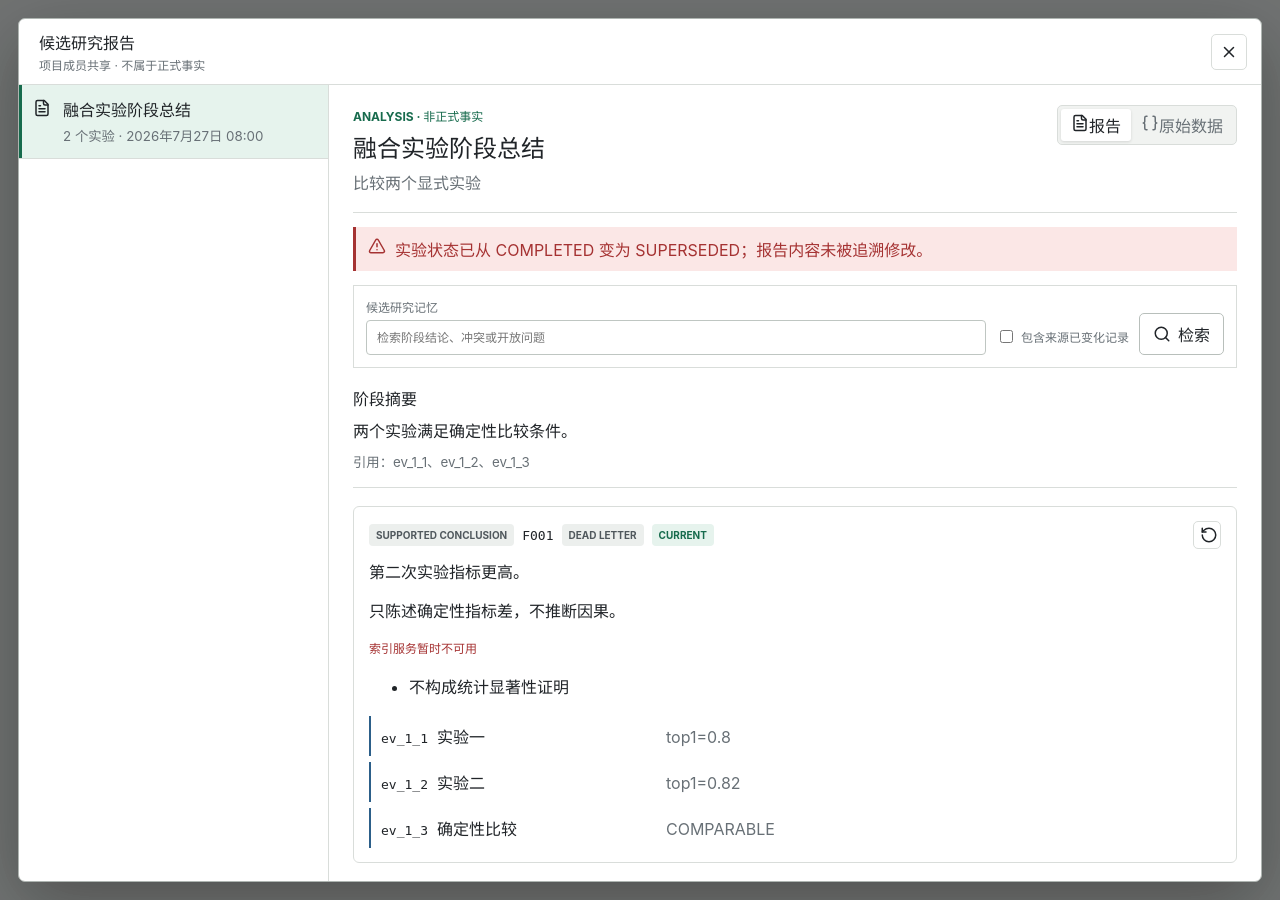
it: ResearchReportWorkspace › shows candidate status, citations, source warning and raw snapshot
Check: the heading "第二次实验指标更高。" is shown, box [369,562,529,582]
Check: the text "项目成员共享 · 不属于正式事实" is shown, box [39,56,205,73]
What coordinates should you click on to do the following:
click the button "原始数据"
I would click on:
 (1182, 125)
Its box is [1131,109,1233,141].
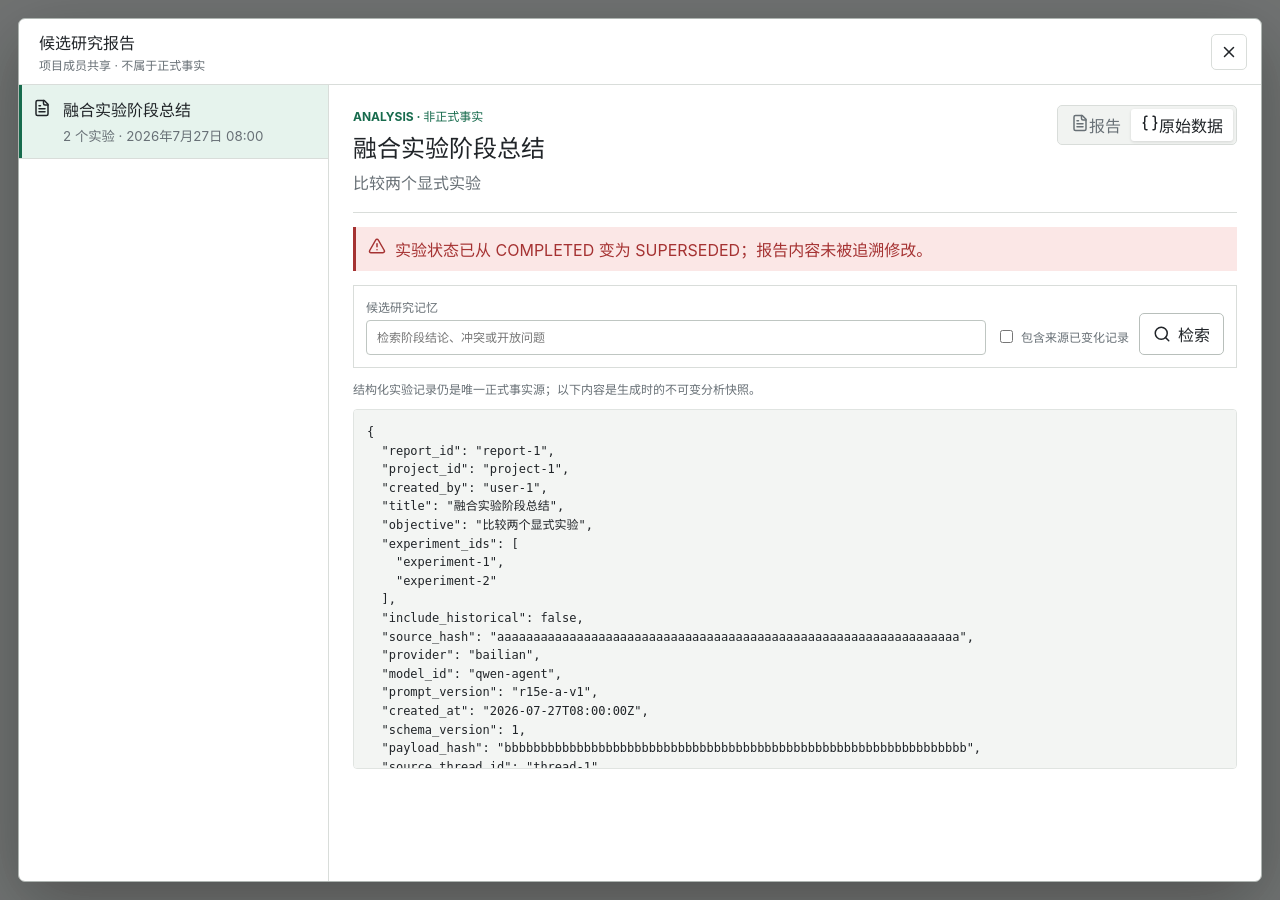
Check: the text "结构化实验记录仍是唯一正式事实源；以下内容是生成时的不可变分析快照。" is shown, box [353,382,761,397]
